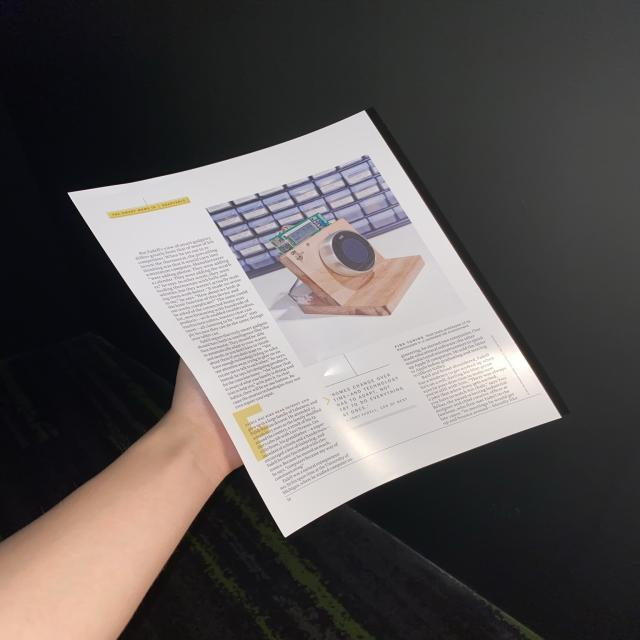document: (70, 111, 560, 535)
